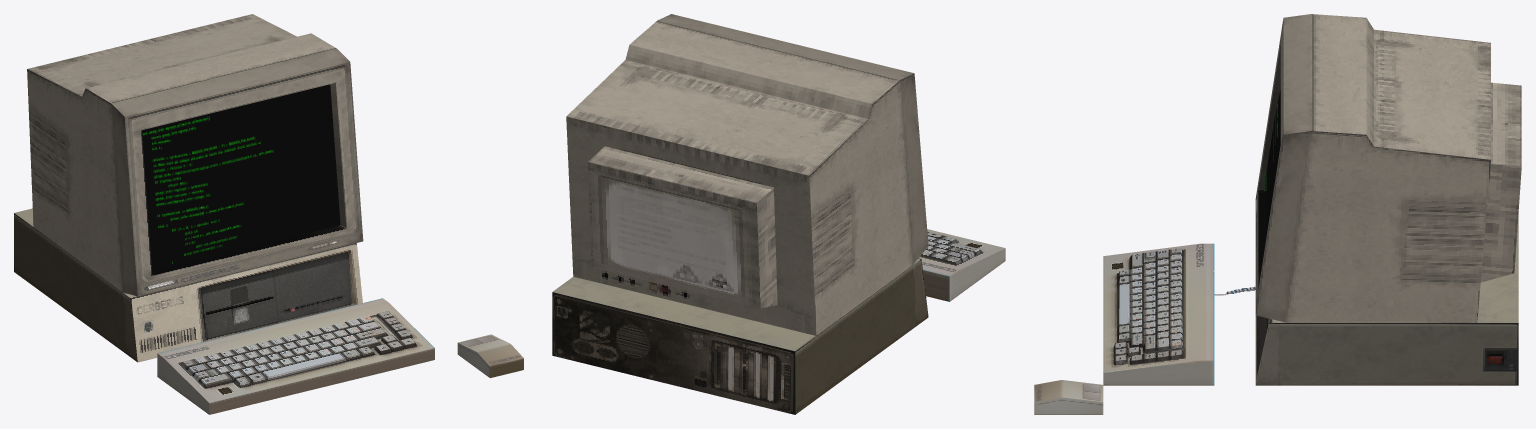
Rendered from computer.glb.
3 views of the same model, side by side, from view 1: azimuth 30°, elevation 25°; view 2: azimuth 150°, elevation 25°; view 3: azimuth 270°, elevation 25° (orthographic). The views are drawn at different scales.
Parts seen in each view (by area): view 1: Cube.003; view 2: Cube.003; view 3: Cube.003.
Part boxes in pixels (x1,y1,x2,y2): Cube.003: (14, 14, 523, 414); Cube.003: (552, 14, 1005, 414); Cube.003: (1034, 14, 1521, 414).
Size of the model in its own units: 2.5 by 2.03 by 3.52.
Materials: 5 (5 with a texture image).
